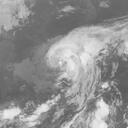cyclone: (45, 25, 116, 76)
